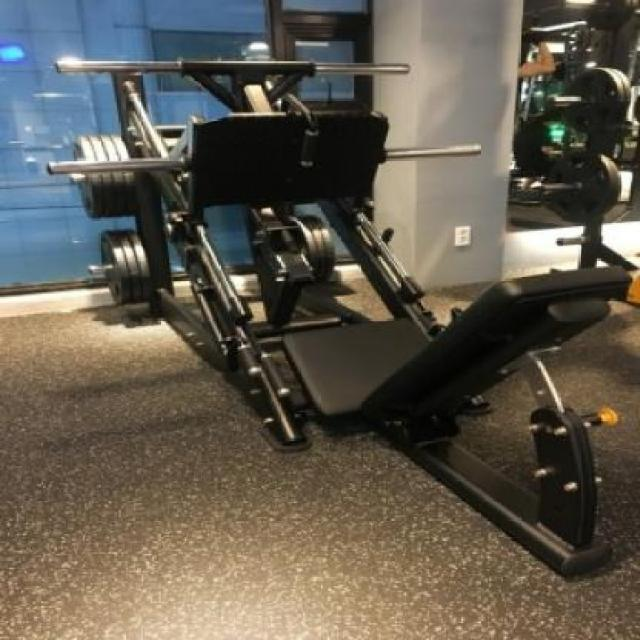leg press: (26, 38, 640, 611)
